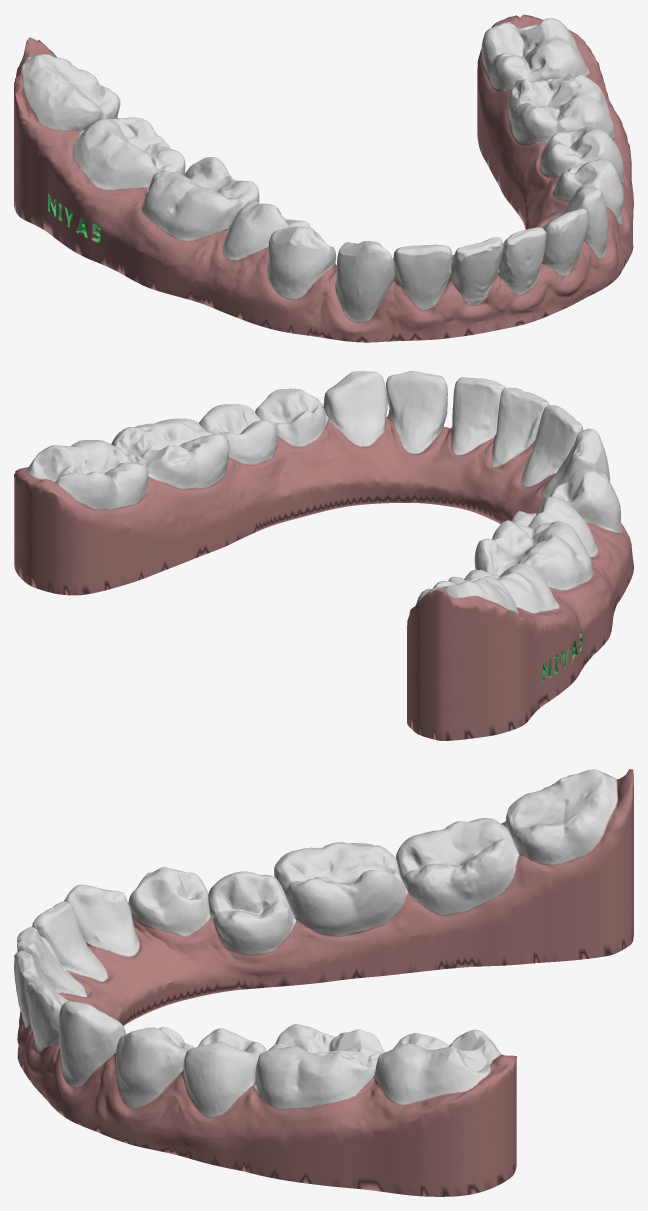
The model's file is Niya Priority Lower jaw - 05 - Model.glb.
3 renders of one model, top to bottom at view 1: azimuth 30°, elevation 25°; view 2: azimuth 150°, elevation 25°; view 3: azimuth 270°, elevation 25°, orthographic. The views are drawn at different scales.
Parts seen in each view (by area): view 1: Niya Priority Lower jaw - 05 - Model; view 2: Niya Priority Lower jaw - 05 - Model; view 3: Niya Priority Lower jaw - 05 - Model.
Part boxes in pixels (box(x1,y1,x2,y2)): Niya Priority Lower jaw - 05 - Model: box(14, 14, 633, 342); Niya Priority Lower jaw - 05 - Model: box(14, 371, 633, 740); Niya Priority Lower jaw - 05 - Model: box(14, 769, 633, 1196).
Bounding box in the file's own units: 62.72 × 16.53 × 56.87.
